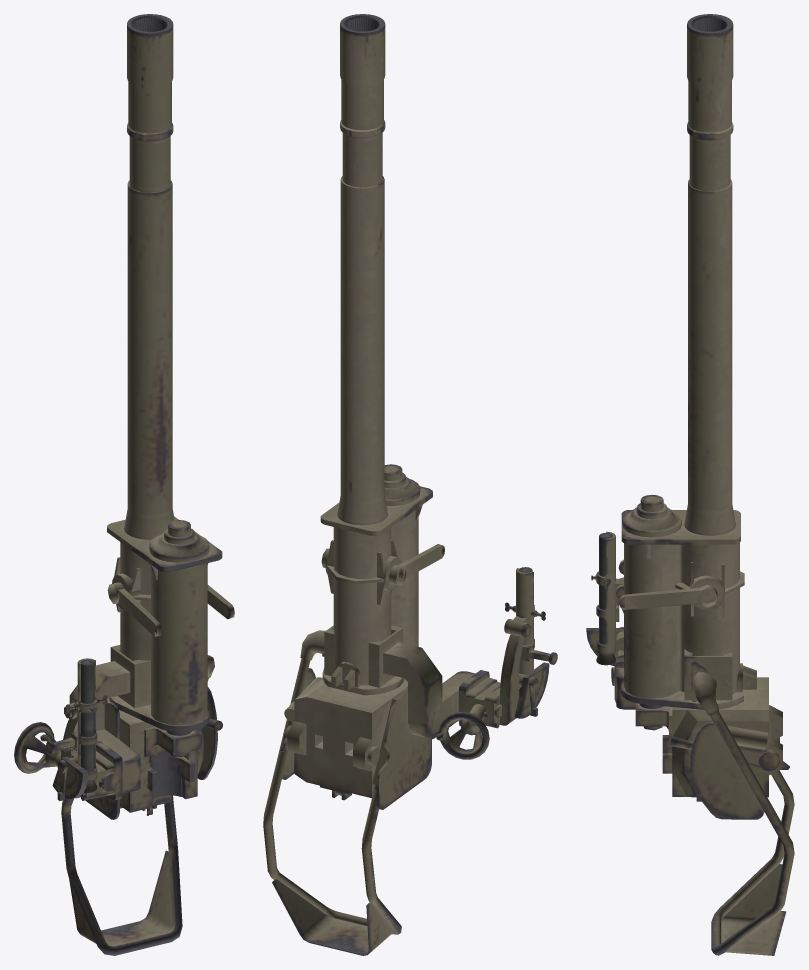
Rendered from Gun_02.glb.
3 renders of one model, left to right at view 1: azimuth 30°, elevation 25°; view 2: azimuth 150°, elevation 25°; view 3: azimuth 270°, elevation 25°, orthographic. The views are drawn at different scales.
Visible parts, largest first — view 1: set_0_group_0; view 2: set_0_group_0; view 3: set_0_group_0.
Part boxes in pixels (<box>): set_0_group_0: <box>14,14,234,955</box>; set_0_group_0: <box>263,14,557,955</box>; set_0_group_0: <box>586,14,794,955</box>.
Bounding box in the file's own units: 0.6575 × 2.75 × 0.5642.
1 material, 1 textured.
